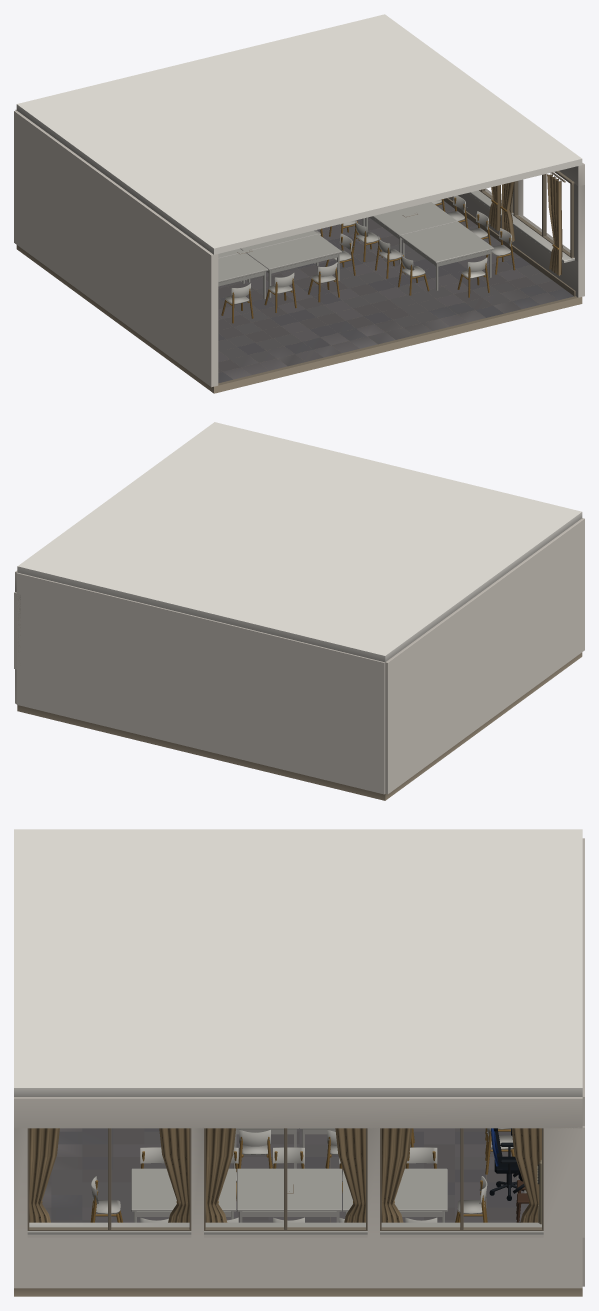
Rendered from classroom-color-v1.glb.
The picture shows the model from 3 angles, top to bottom: view 1: azimuth 30°, elevation 25°; view 2: azimuth 150°, elevation 25°; view 3: azimuth 270°, elevation 25°; orthographic projection. The views are drawn at different scales.
Visible parts, largest first — view 1: Classroom_color_mobile; view 2: Classroom_color_mobile; view 3: Classroom_color_mobile.
Part boxes in pixels (<box>): Classroom_color_mobile: <box>14,14,584,393</box>; Classroom_color_mobile: <box>14,422,584,800</box>; Classroom_color_mobile: <box>14,829,584,1296</box>.
Bounding box in the file's own units: 9.94 × 3.69 × 9.14.
1 material, 1 textured.
